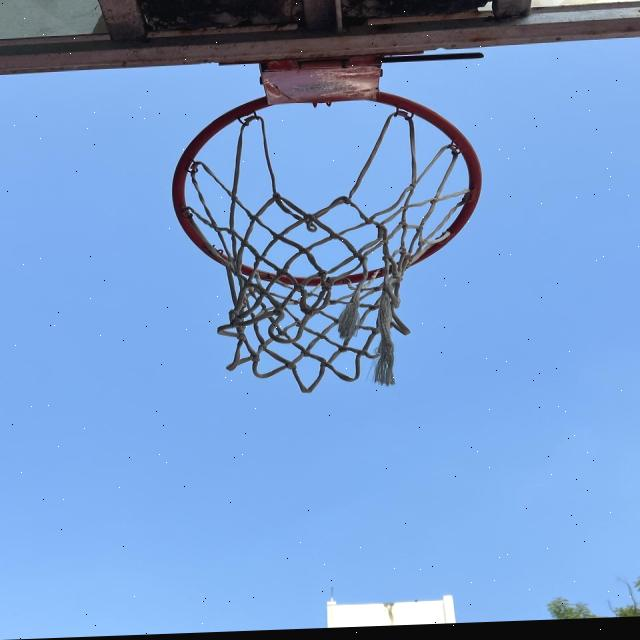hoop: (134, 45, 498, 414)
